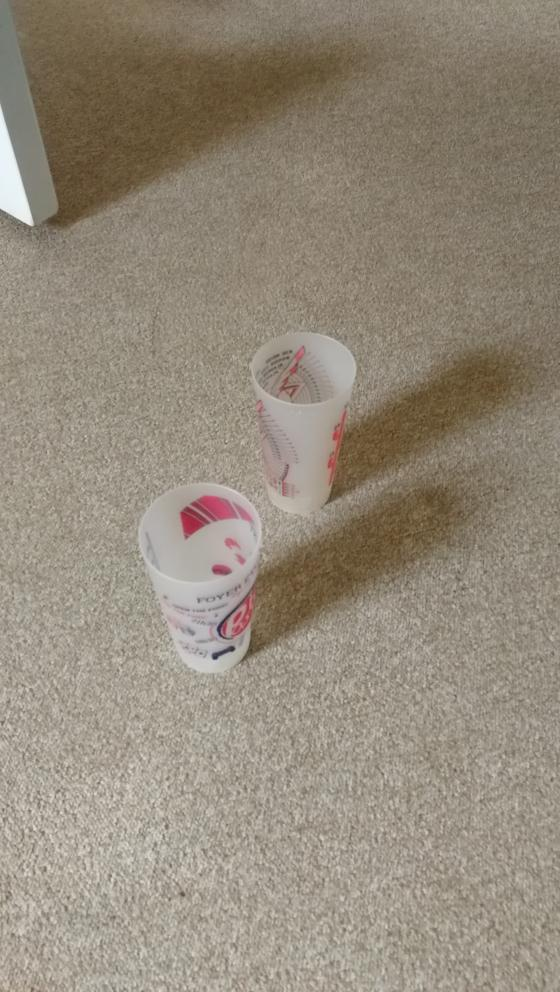ecocup: (136, 481, 263, 673), (251, 332, 356, 514)
